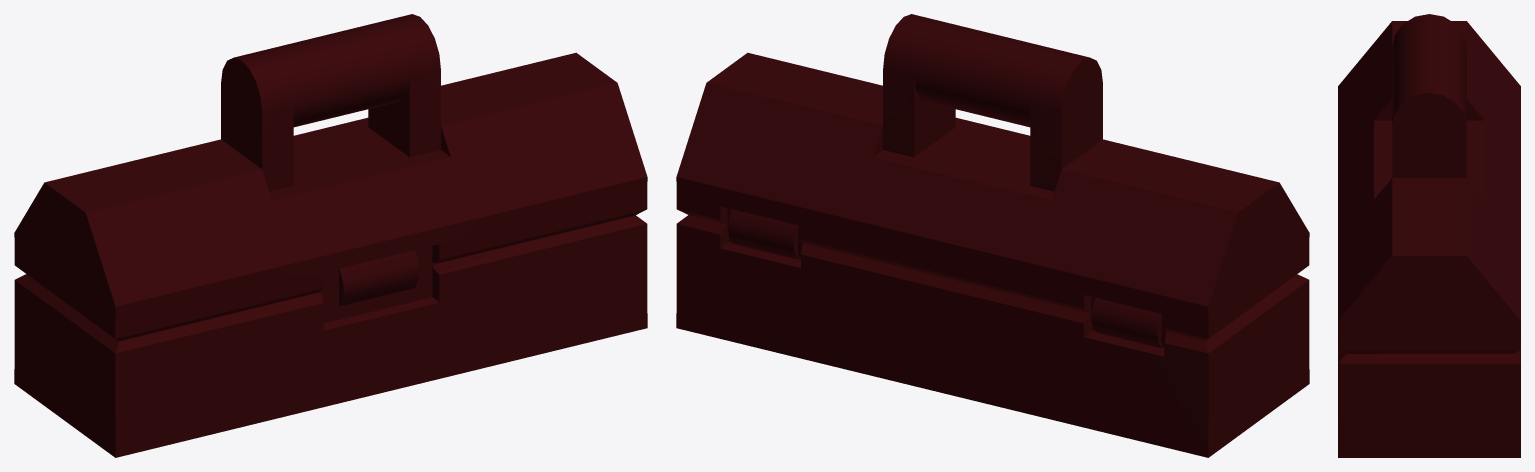
The model's file is tool1.dae.
3 renders of one model, left to right at view 1: azimuth 30°, elevation 25°; view 2: azimuth 150°, elevation 25°; view 3: azimuth 270°, elevation 25°, orthographic. The views are drawn at different scales.
Visible parts, largest first — view 1: Part_98368.1; view 2: Part_98368.1; view 3: Part_98368.1.
Part boxes in pixels (x1,y1,x2,y2): Part_98368.1: (14, 14, 647, 457); Part_98368.1: (676, 14, 1309, 457); Part_98368.1: (1338, 14, 1520, 457).
Bounding box in the file's own units: 23.82 × 13.58 × 7.84.
